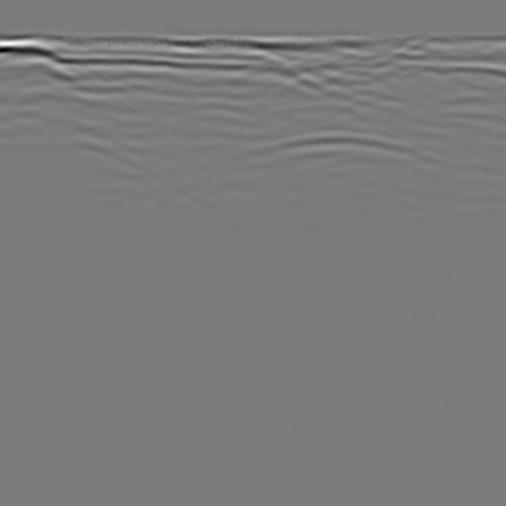hyperbola: (203, 117, 455, 214)
